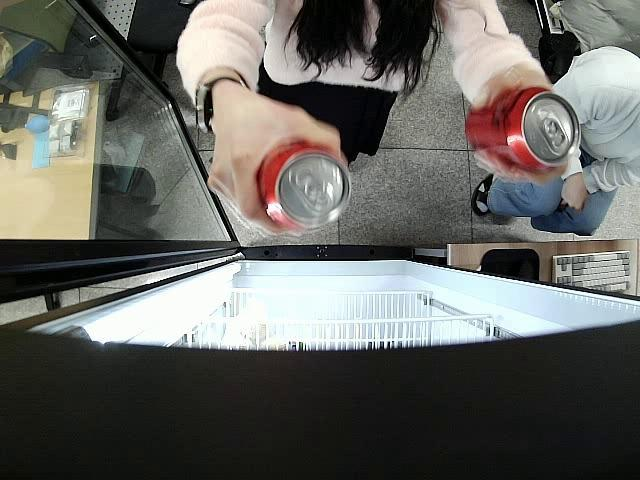11_cocaColaZero: (465, 84, 579, 170), (258, 143, 354, 236)
